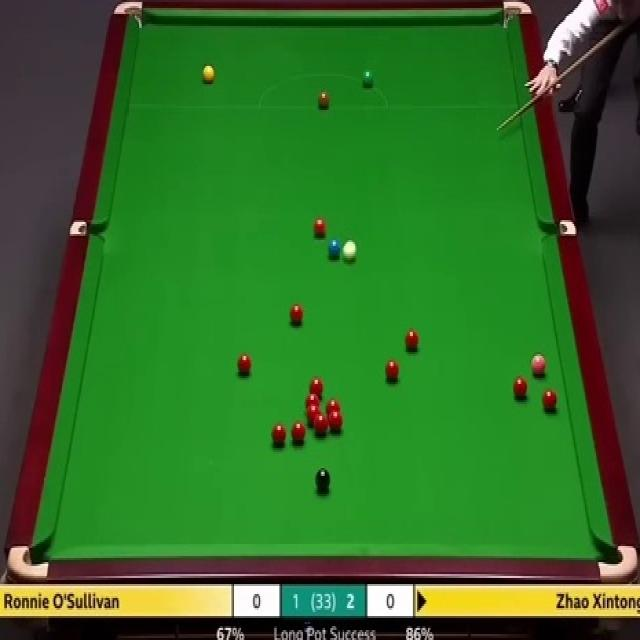black-ball: (314, 468, 331, 490)
blue-ball: (327, 238, 342, 260)
brown-ball: (316, 90, 329, 110)
green-ball: (362, 67, 373, 88)
pink-ball: (530, 354, 548, 377)
red-ball: (269, 422, 287, 448), (541, 388, 558, 411), (513, 374, 528, 400), (289, 302, 304, 326), (236, 352, 252, 374), (291, 421, 306, 444), (329, 409, 343, 433), (404, 328, 419, 350), (384, 359, 399, 381), (309, 376, 323, 398), (314, 414, 328, 436), (312, 218, 328, 237), (304, 393, 320, 411), (307, 405, 320, 425), (326, 397, 342, 413)
white-ball: (344, 238, 356, 264)
yellow-ball: (202, 65, 214, 86)
